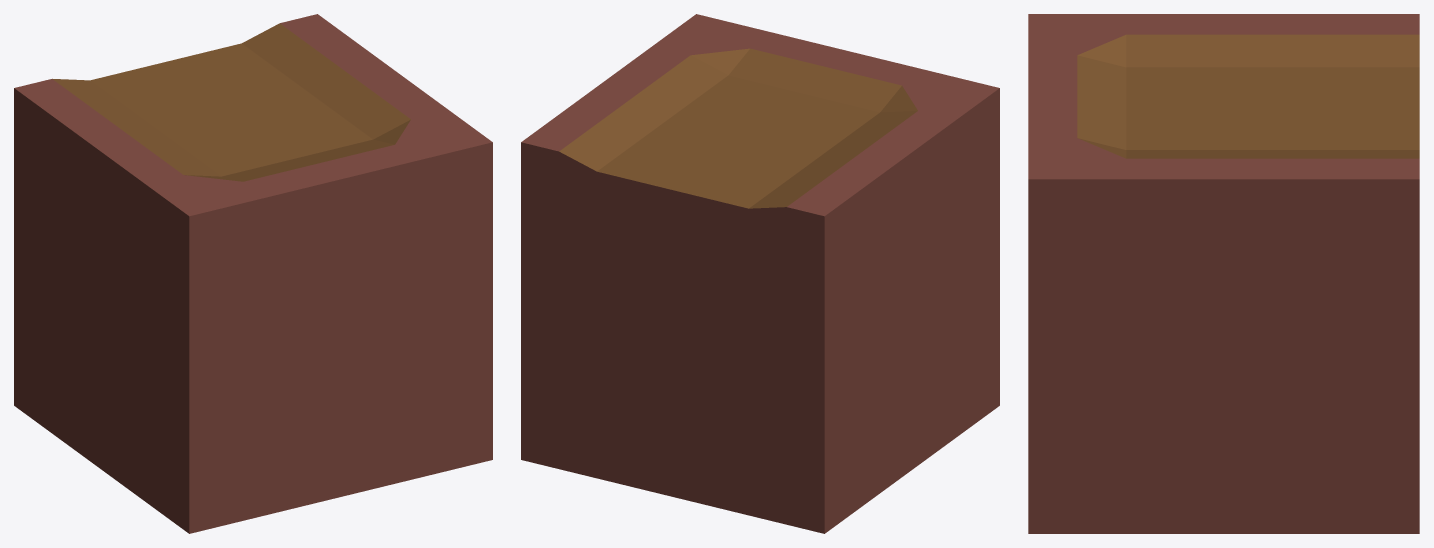
The model's file is Dirt_Path_End.glb.
The picture shows the model from 3 angles, left to right: view 1: azimuth 30°, elevation 25°; view 2: azimuth 150°, elevation 25°; view 3: azimuth 270°, elevation 25°; orthographic projection. The views are drawn at different scales.
Parts seen in each view (by area): view 1: Dirt Path End; view 2: Dirt Path End; view 3: Dirt Path End.
Boxes of the visible parts, left/top/right/bottom form: Dirt Path End: left=14, top=14, right=492, bottom=533; Dirt Path End: left=521, top=14, right=999, bottom=533; Dirt Path End: left=1028, top=14, right=1419, bottom=533.
Bounding box in the file's own units: 2 × 2 × 2.
1 material, 1 textured.
